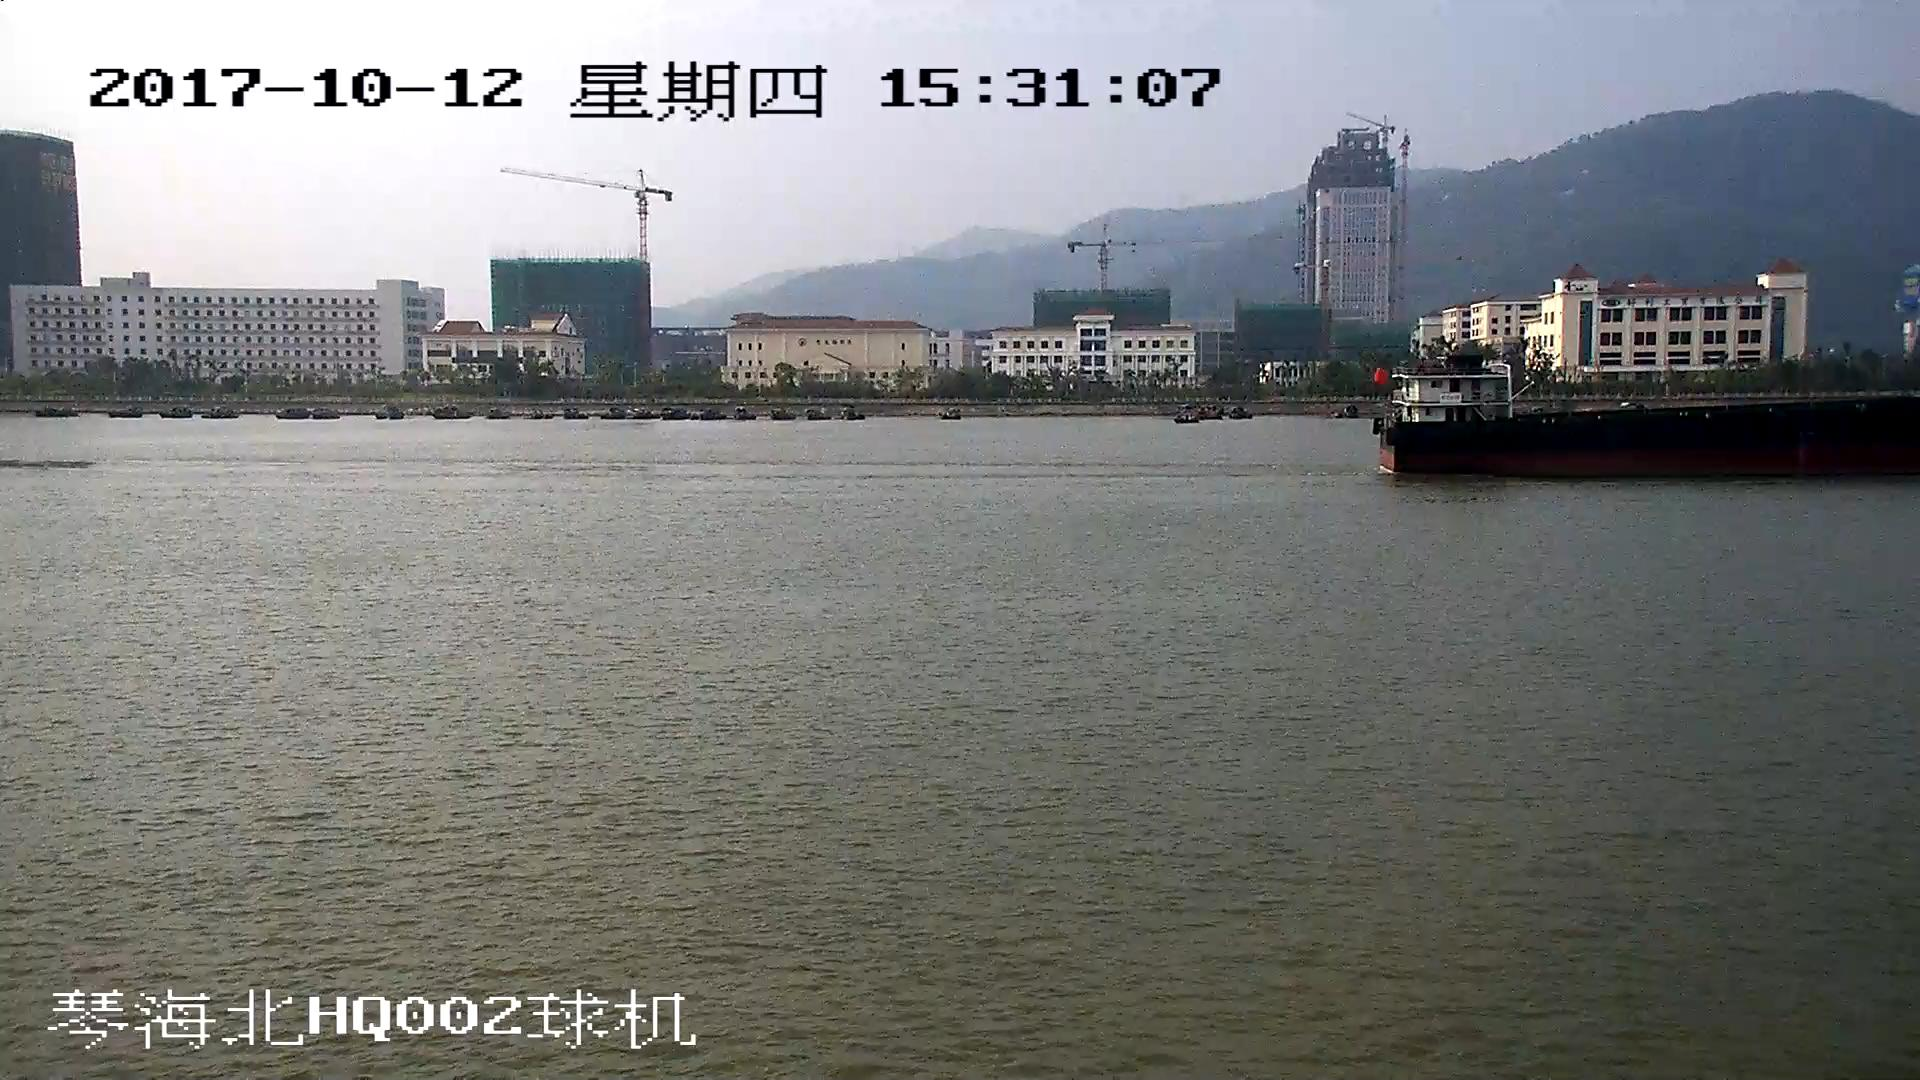general cargo ship: (1375, 368, 1920, 483)
